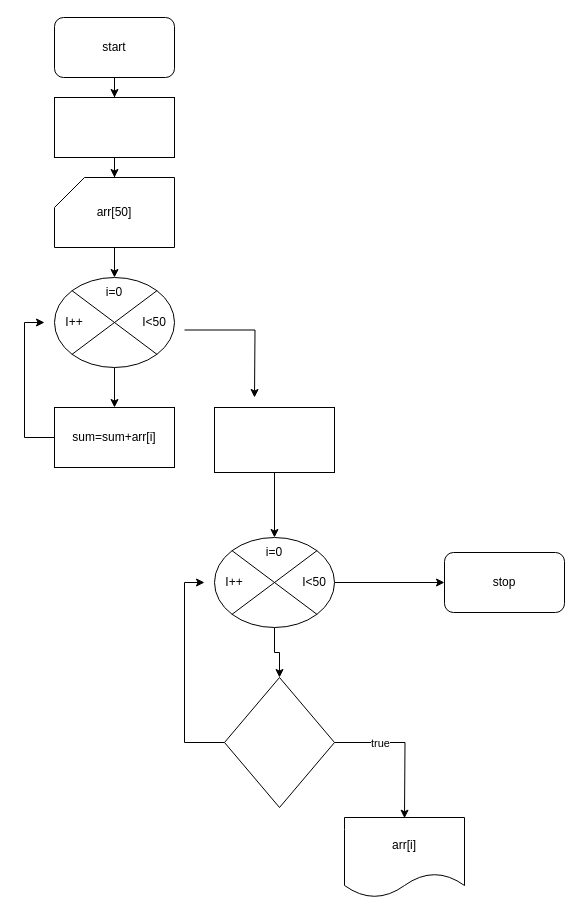
Some shapes in this 582 by 915 pixel diagram are drawn without their labels. The box of each missing label's shape, as (x1, y1, x2, y2) in pixels:
arr[i]>avg: (224, 676, 334, 808)
avg=sum/50: (214, 406, 334, 472)
sum=0: (54, 96, 174, 158)
